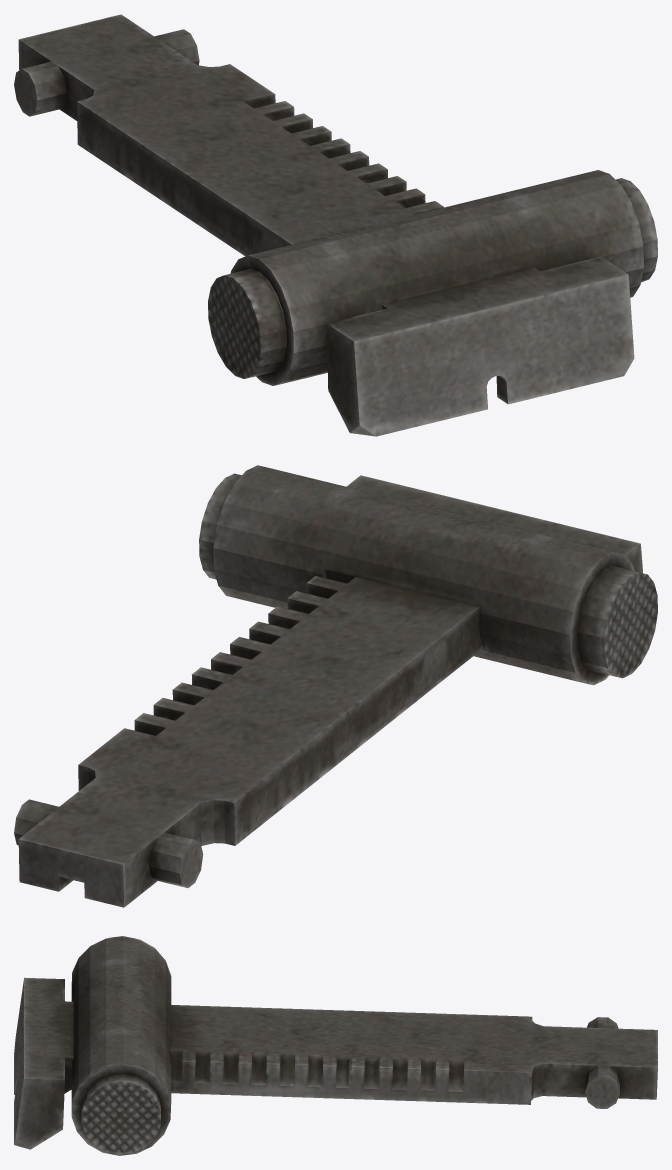
The picture shows the model from 3 angles, top to bottom: view 1: azimuth 30°, elevation 25°; view 2: azimuth 150°, elevation 25°; view 3: azimuth 270°, elevation 25°; orthographic projection. The views are drawn at different scales.
Parts seen in each view (by area): view 1: TW_5649b0544bdc2d1b2b8b458a_PZ_Import; view 2: TW_5649b0544bdc2d1b2b8b458a_PZ_Import; view 3: TW_5649b0544bdc2d1b2b8b458a_PZ_Import.
Boxes of the visible parts, x1=… form: TW_5649b0544bdc2d1b2b8b458a_PZ_Import: x1=14, y1=14, x2=657, y2=436; TW_5649b0544bdc2d1b2b8b458a_PZ_Import: x1=14, y1=465, x2=657, y2=907; TW_5649b0544bdc2d1b2b8b458a_PZ_Import: x1=14, y1=936, x2=657, y2=1155.
Bounding box in the file's own units: 0.018 × 0.0337 × 0.00588.
1 material, 1 textured.
